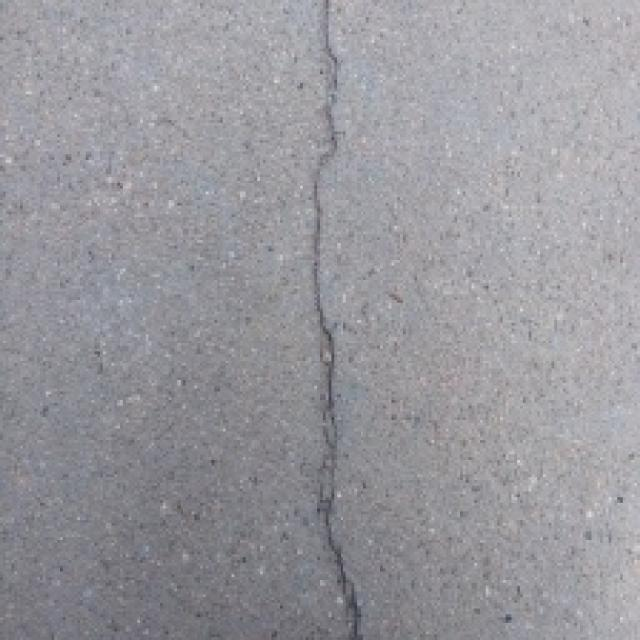crack: (282, 2, 416, 640)
